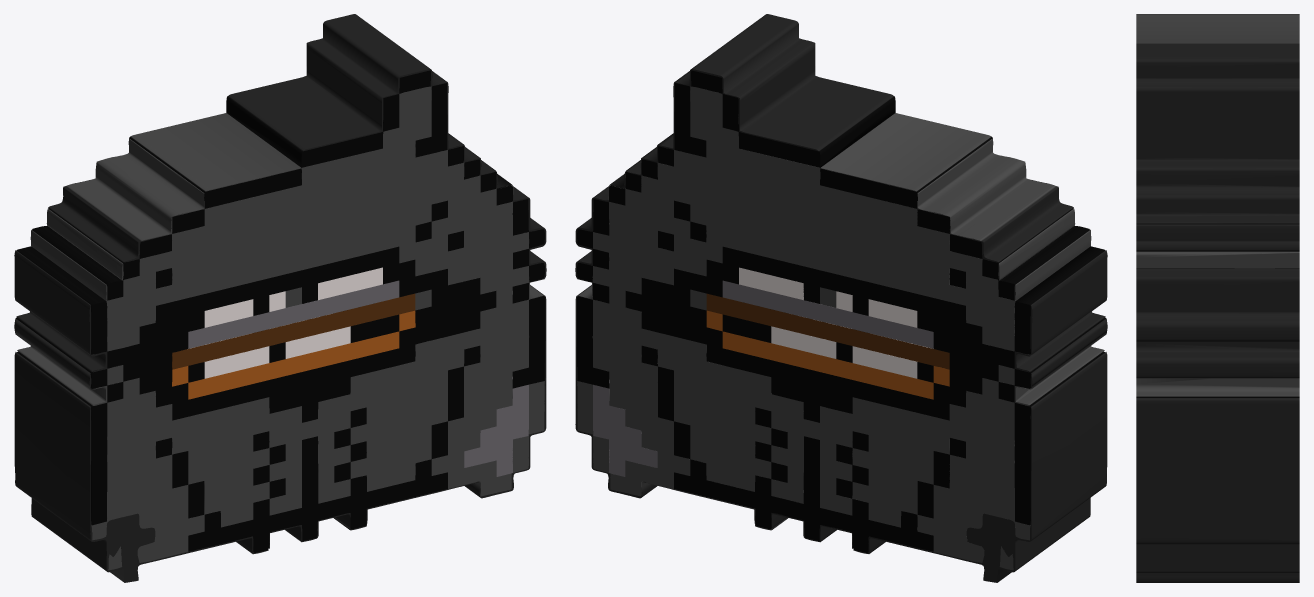
The model's file is Toadz_3805.glb.
3 renders of one model, left to right at view 1: azimuth 30°, elevation 25°; view 2: azimuth 150°, elevation 25°; view 3: azimuth 270°, elevation 25°, orthographic. The views are drawn at different scales.
Parts seen in each view (by area): view 1: Curve; view 2: Curve; view 3: Curve.
Boxes of the visible parts, box(x1,y1,x2,y2) form: Curve: box(14, 14, 546, 582); Curve: box(575, 14, 1107, 582); Curve: box(1136, 14, 1299, 582).
Bounding box in the file's own units: 3.5 × 3.24 × 1.
